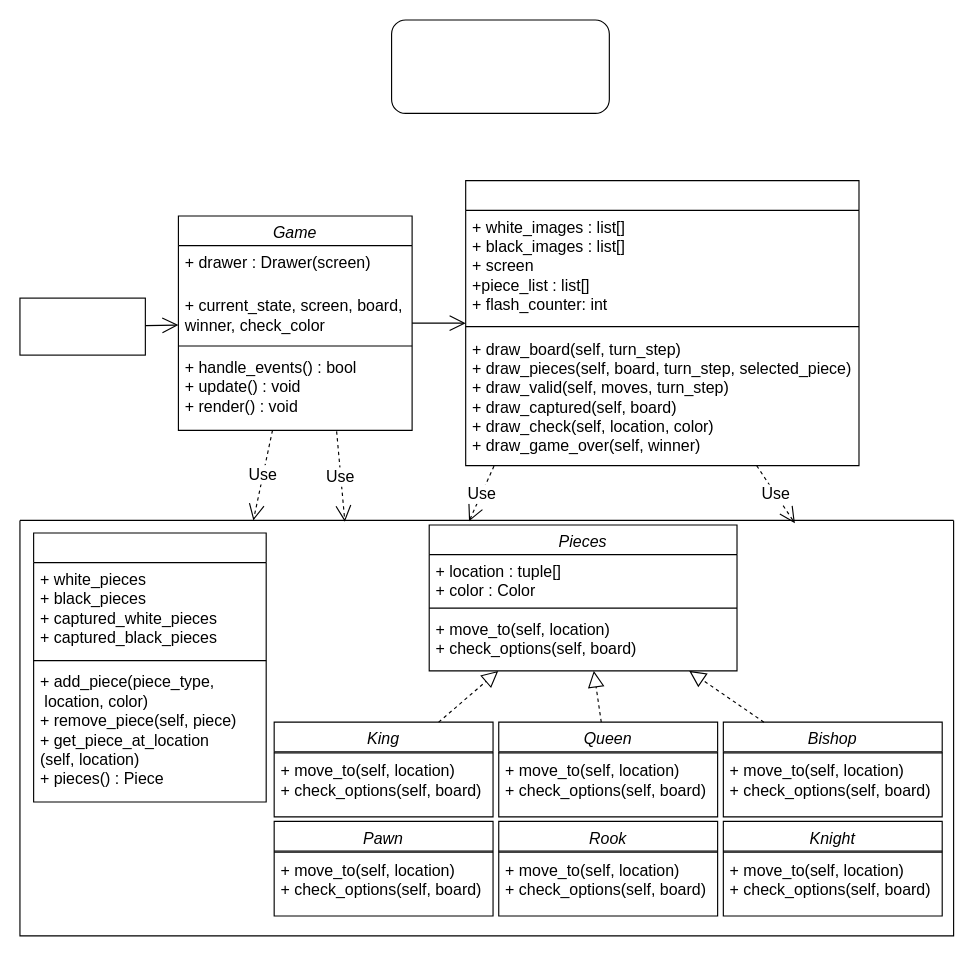
The diagram is 974 pixels wide and 956 high, and some of its shapes have lost their labels. Here are the shapes that lost their labels. From the top down, the box of each, then its label:
(390, 19, 609, 113): Design Pattern FACADE
(19, 297, 145, 355): Main
(465, 180, 859, 466): Drawer
(32, 532, 266, 802): Board
